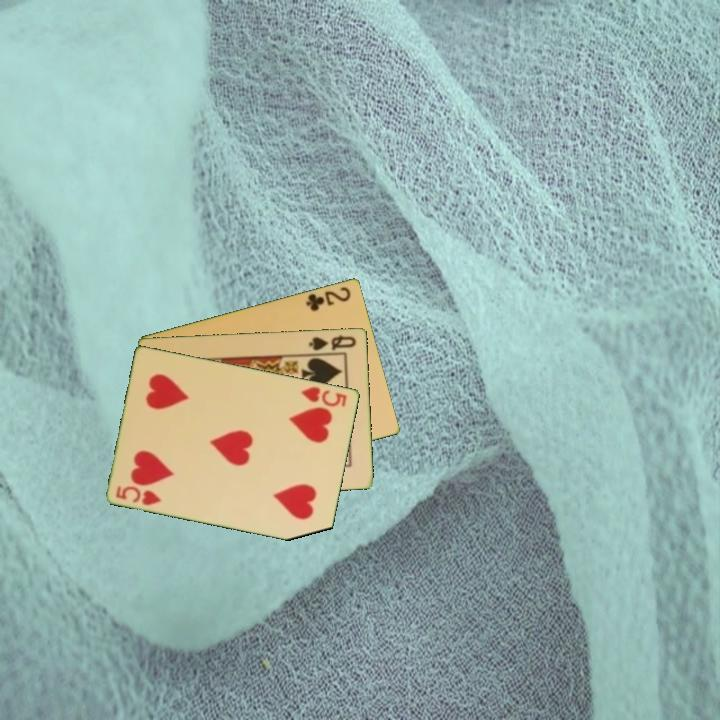2c: (302, 283, 354, 314)
5h: (298, 383, 350, 409), (112, 482, 164, 508)
Qs: (306, 331, 359, 353)
